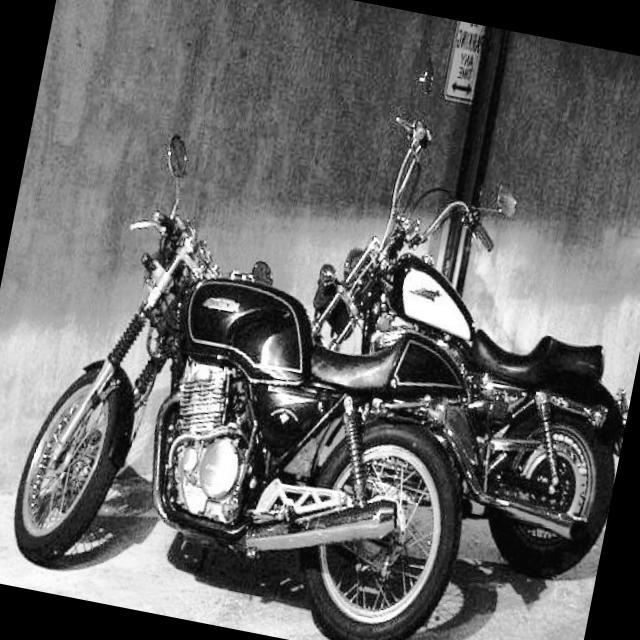Motorcycle: (0, 172, 537, 640), (243, 133, 640, 640)
